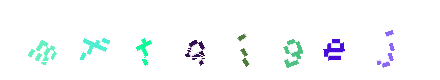E: (294, 0, 374, 80)
F: (104, 0, 184, 80)
G: (252, 0, 332, 80)
I: (203, 0, 283, 80)
J: (342, 0, 422, 80)
M: (28, 0, 108, 80)
Q: (180, 0, 260, 80)
T: (156, 0, 236, 80)
